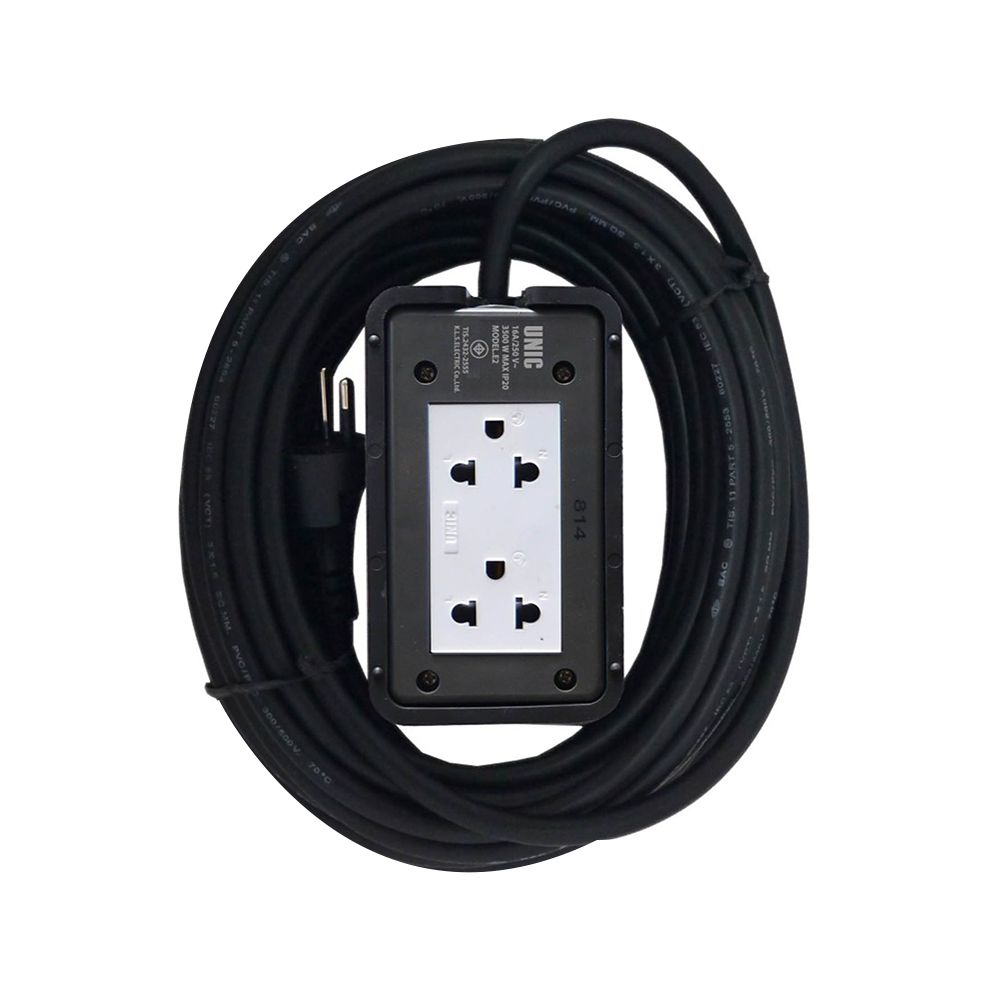Three_eye_plug: (353, 263, 628, 744)
